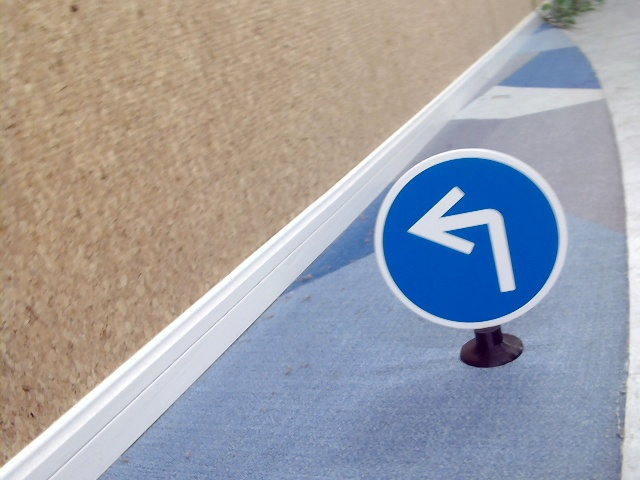turn_left: (408, 180, 517, 298)
